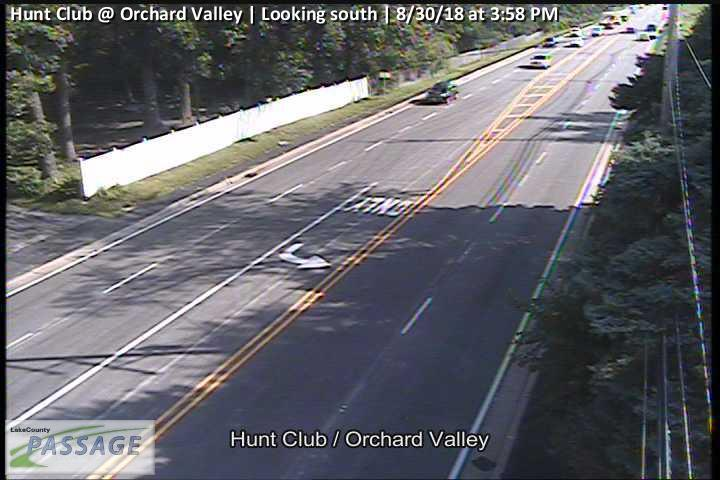Sedan: (425, 81, 457, 104), (530, 54, 551, 68), (566, 37, 584, 46), (541, 36, 557, 45), (591, 26, 602, 36)
